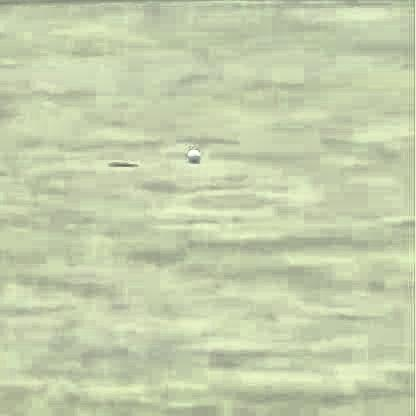golfball: (184, 145, 197, 158)
